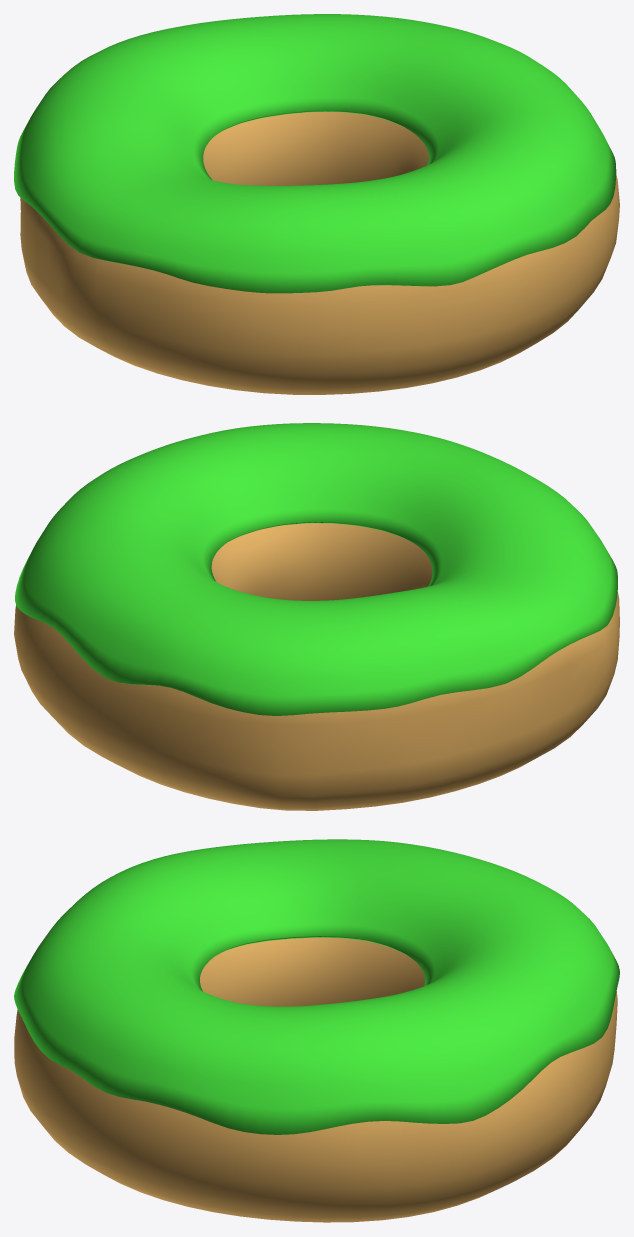
3 views of the same model, one above another, from view 1: azimuth 30°, elevation 25°; view 2: azimuth 150°, elevation 25°; view 3: azimuth 270°, elevation 25° (orthographic).
Visible parts, largest first — view 1: Object_10; view 2: Object_10; view 3: Object_10.
Boxes of the visible parts, x1=… form: Object_10: x1=14, y1=14, x2=619, y2=394; Object_10: x1=14, y1=423, x2=619, y2=810; Object_10: x1=14, y1=839, x2=619, y2=1222.
Bounding box in the file's own units: 59.86 × 21.52 × 59.08.
